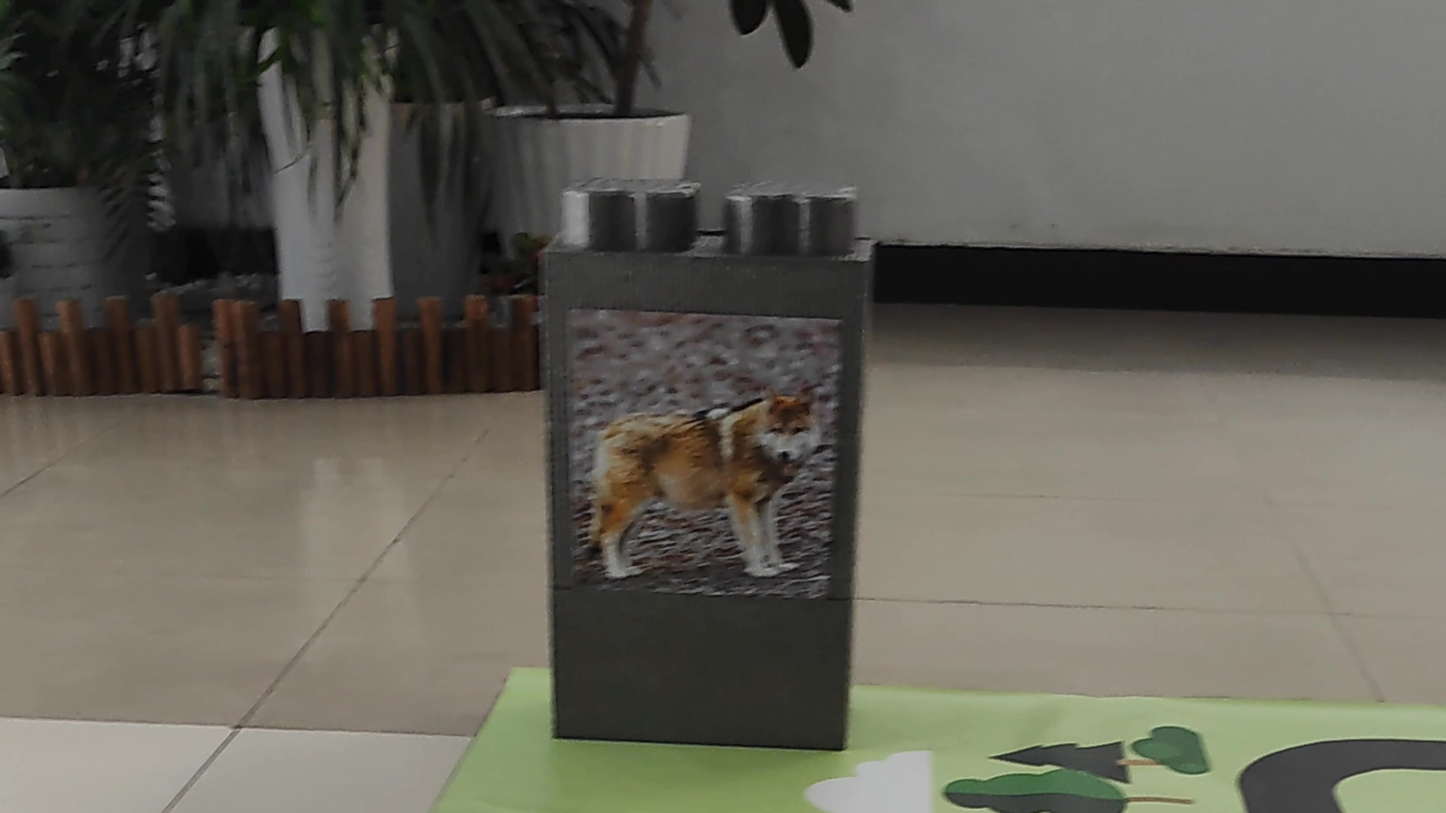wolf: (561, 354, 826, 596)
